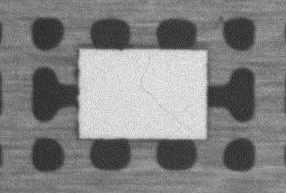DIE_CRACK: (139, 56, 191, 132)
